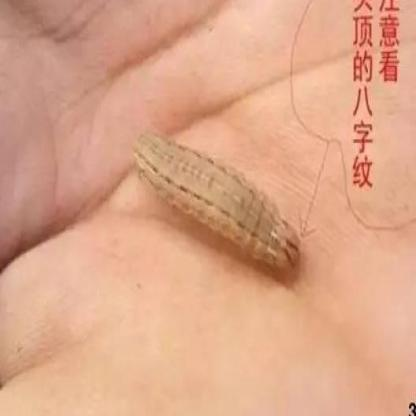armyworm: (133, 120, 306, 278)
